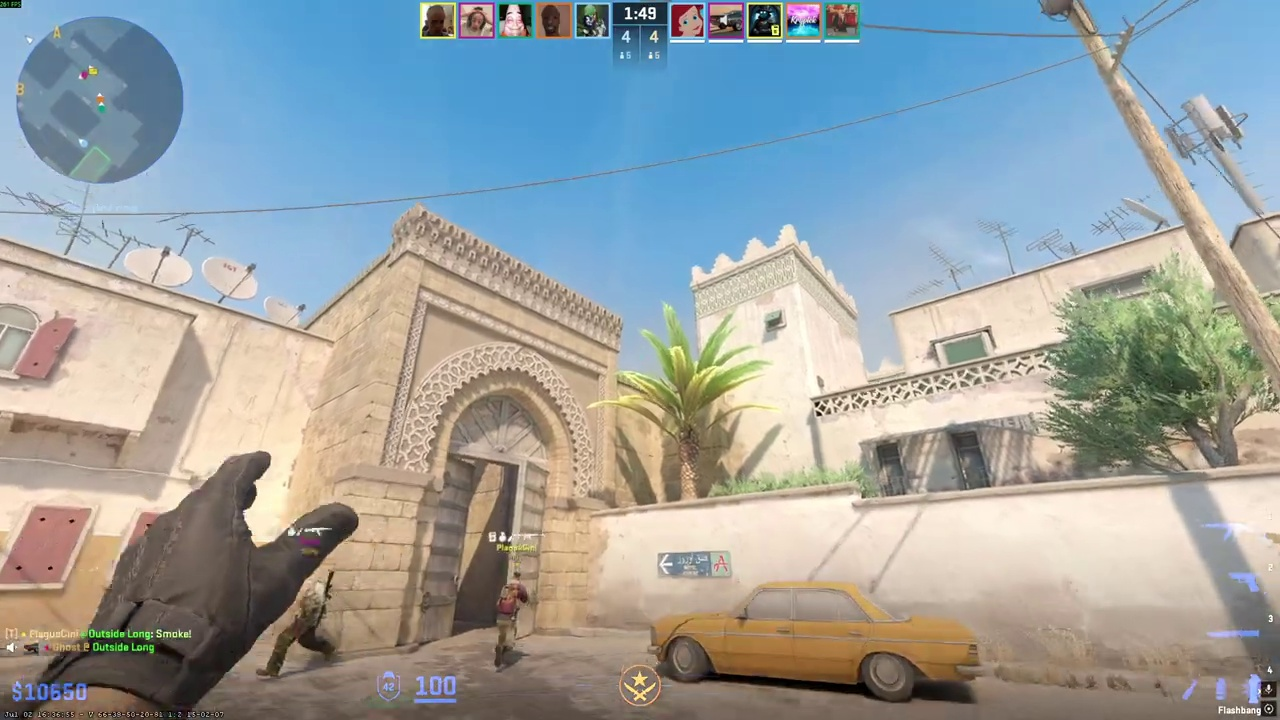Terrorist: (269, 575, 335, 678), (494, 572, 529, 668)
